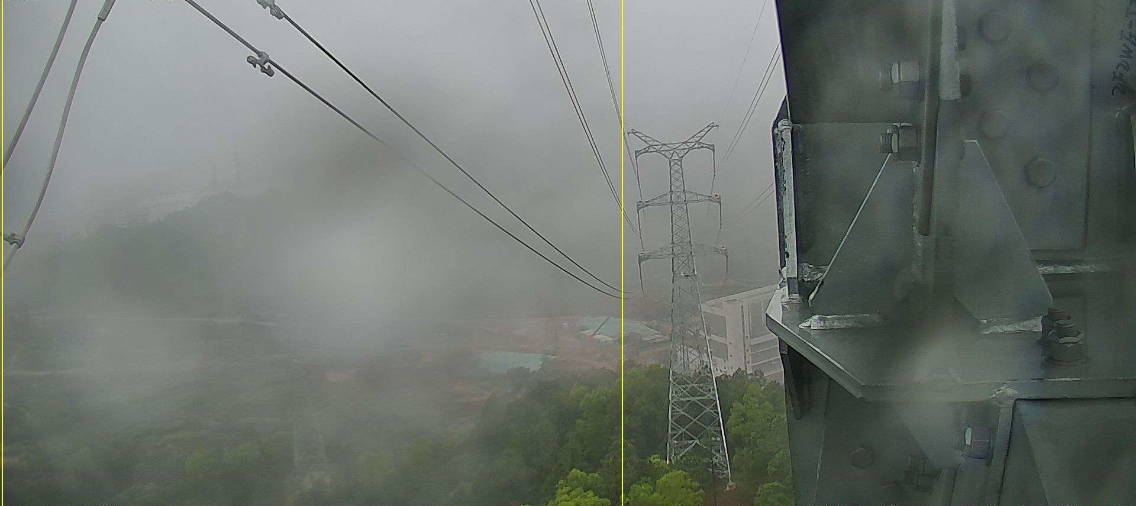山间云雾: (0, 0, 793, 506)
